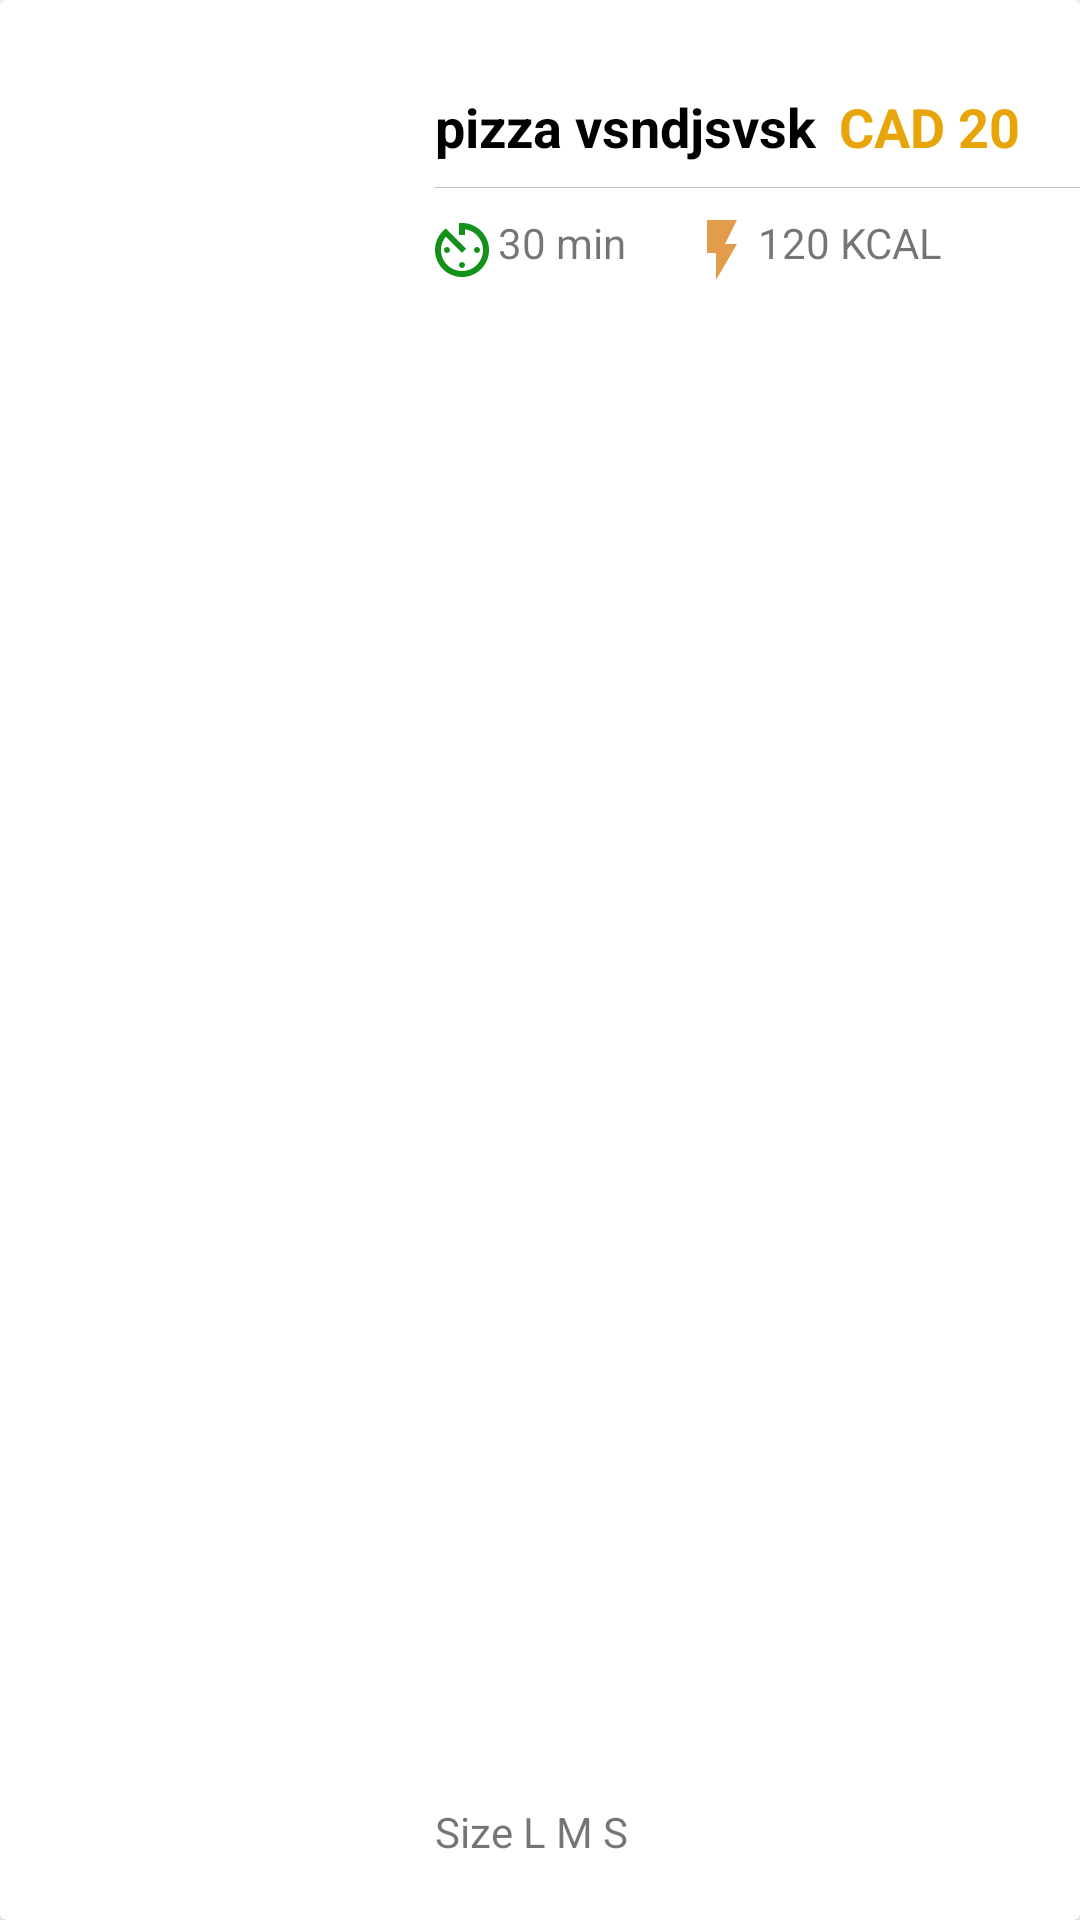

Icon click points for this 1080w x 1920h phone screenshot, format point (x, y):
flash: point (722, 250)
time: point (462, 250)
